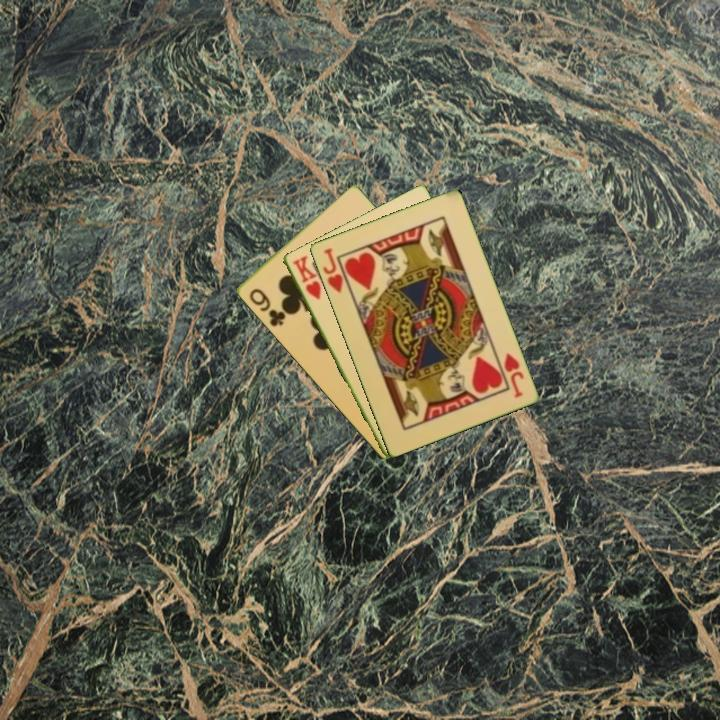9c: (245, 285, 288, 330)
Jh: (319, 244, 353, 296), (500, 350, 526, 401)
Kh: (289, 252, 324, 303)
